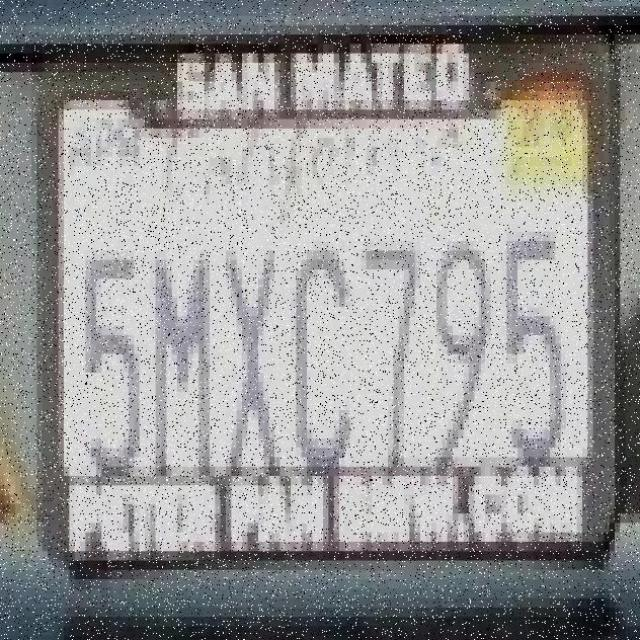LicensePlate: (40, 44, 618, 566)
